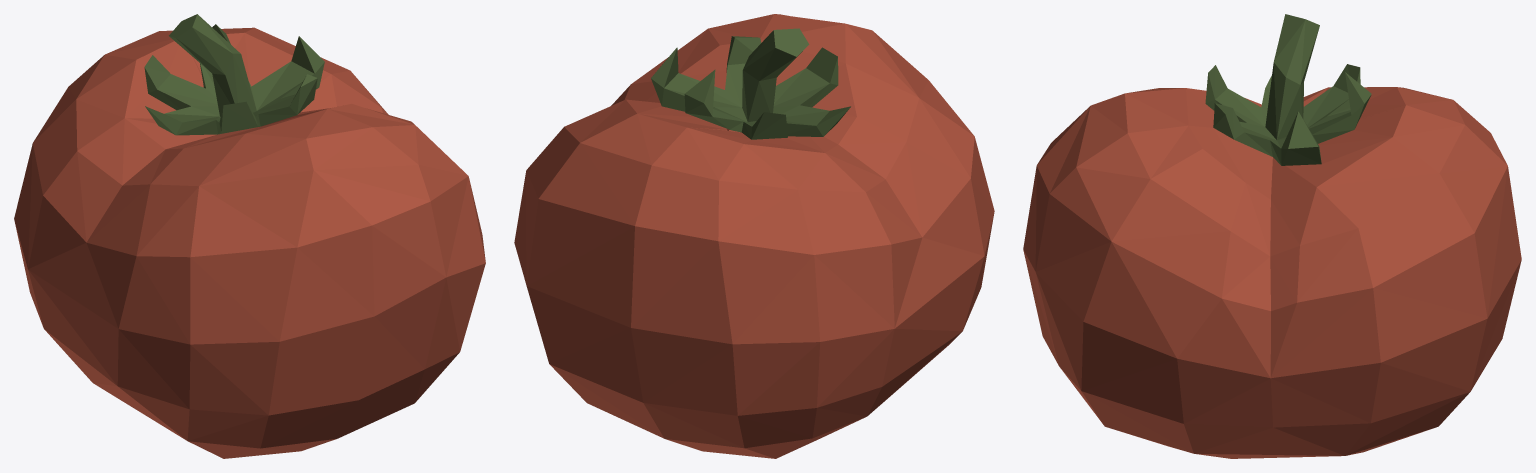
Rendered from Tomato.fbx.
The picture shows the model from 3 angles, left to right: view 1: azimuth 30°, elevation 25°; view 2: azimuth 150°, elevation 25°; view 3: azimuth 270°, elevation 25°; orthographic projection. The views are drawn at different scales.
Parts seen in each view (by area): view 1: Tomato; view 2: Tomato; view 3: Tomato.
Part boxes in pixels (bbox=[...]): Tomato: bbox=[14, 14, 485, 458]; Tomato: bbox=[514, 14, 994, 458]; Tomato: bbox=[1023, 14, 1521, 458].
Size of the model in its own units: 0.0799 by 0.0934 by 0.0836.
